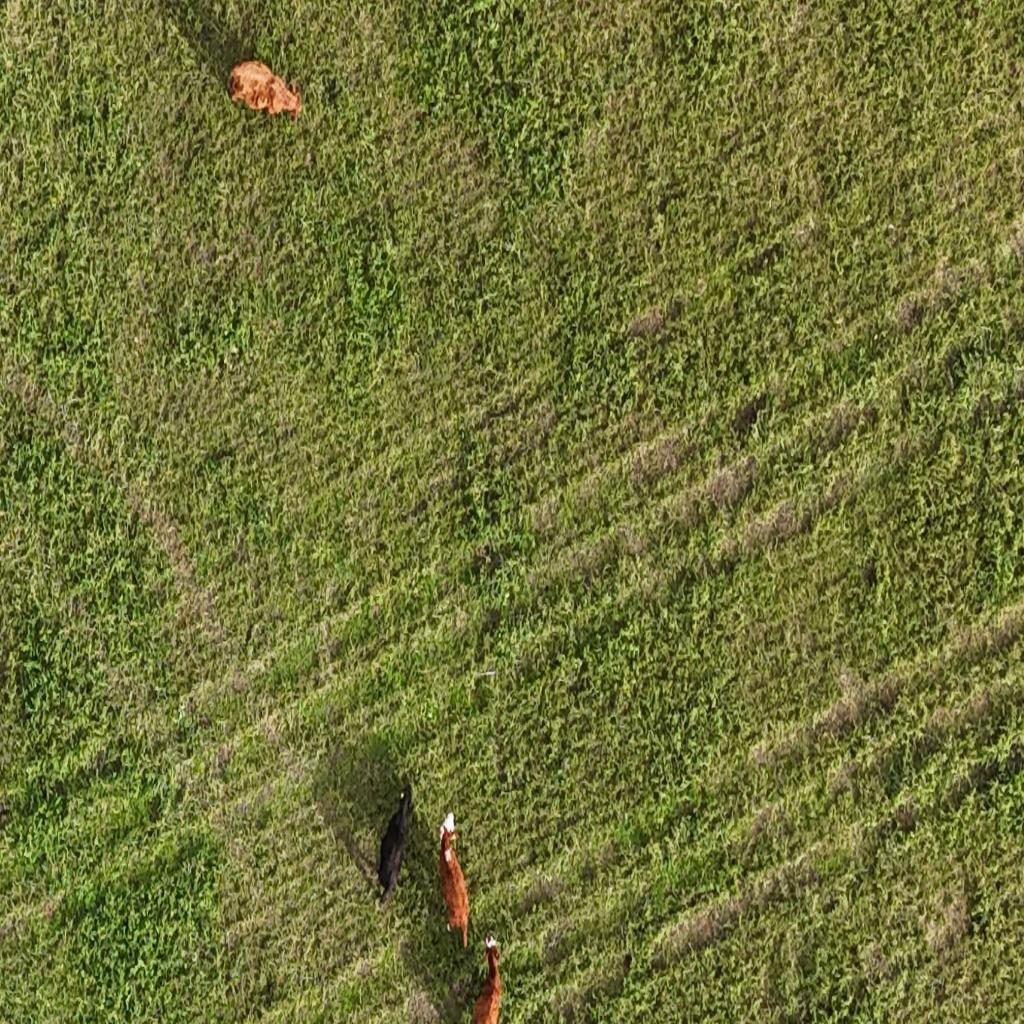cow: (228, 56, 310, 127), (374, 778, 417, 912), (436, 808, 472, 951), (468, 927, 506, 1024)
